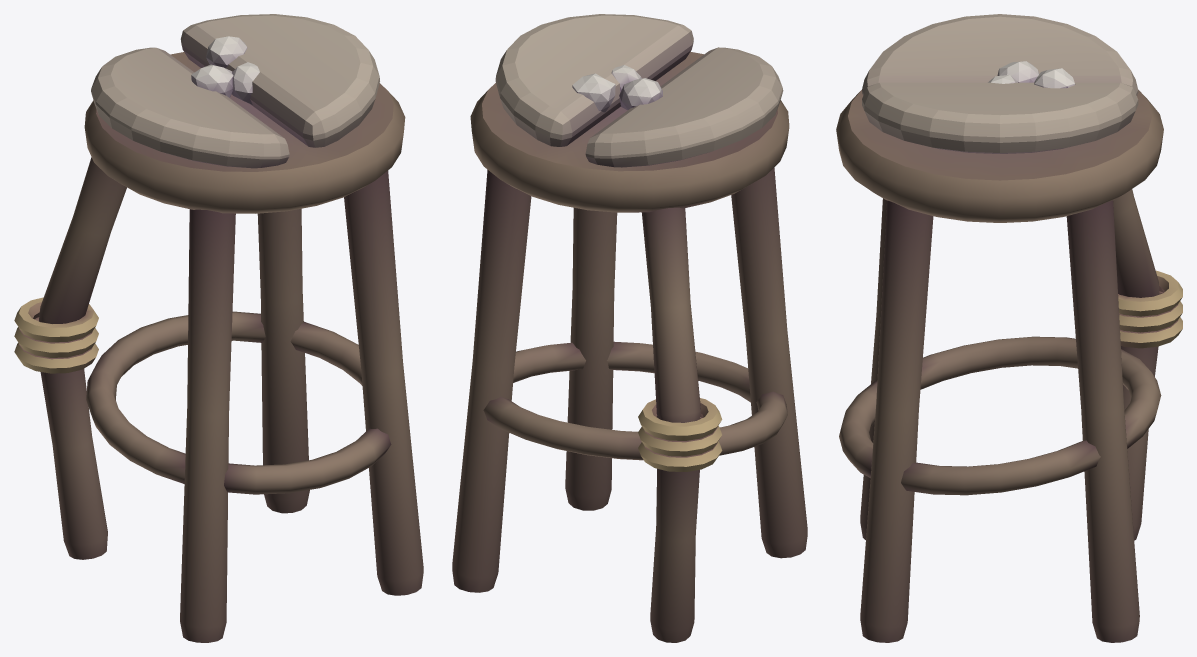
Rendered from stool_broken.glb.
The picture shows the model from 3 angles, left to right: view 1: azimuth 30°, elevation 25°; view 2: azimuth 150°, elevation 25°; view 3: azimuth 270°, elevation 25°; orthographic projection. The views are drawn at different scales.
Visible parts, largest first — view 1: stool_broken; view 2: stool_broken; view 3: stool_broken.
Part boxes in pixels (x1,y1,x2,y2): stool_broken: [14, 14, 423, 642]; stool_broken: [452, 14, 807, 642]; stool_broken: [836, 14, 1182, 642].
Bounding box in the file's own units: 0.594 × 0.9869 × 0.5922.
